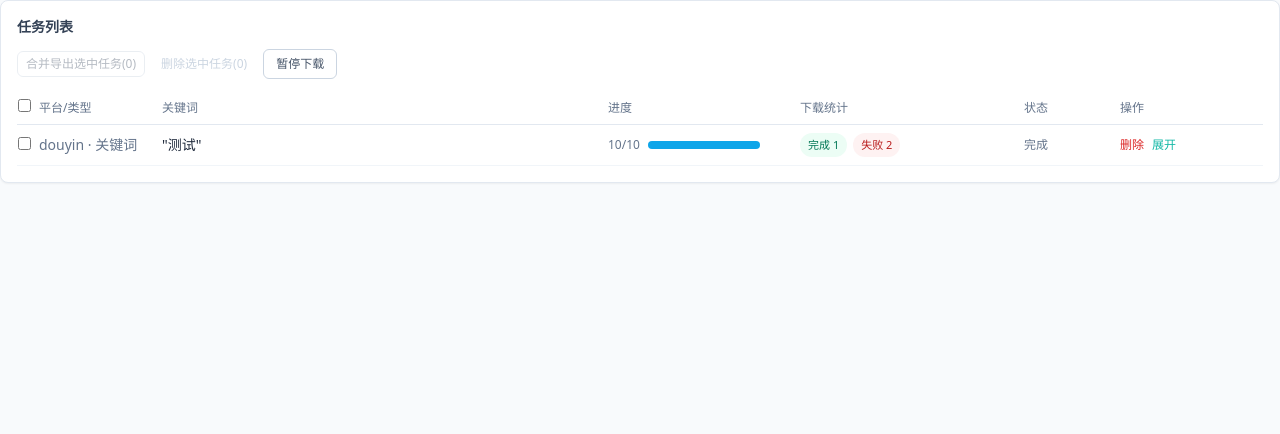
Test case: 只看失败 › 先过滤后搜索：只看失败 + 关键词，只显示失败的匹配行
Click the button "展开".
click(1164, 145)  # box 1152,137 -> 1176,153
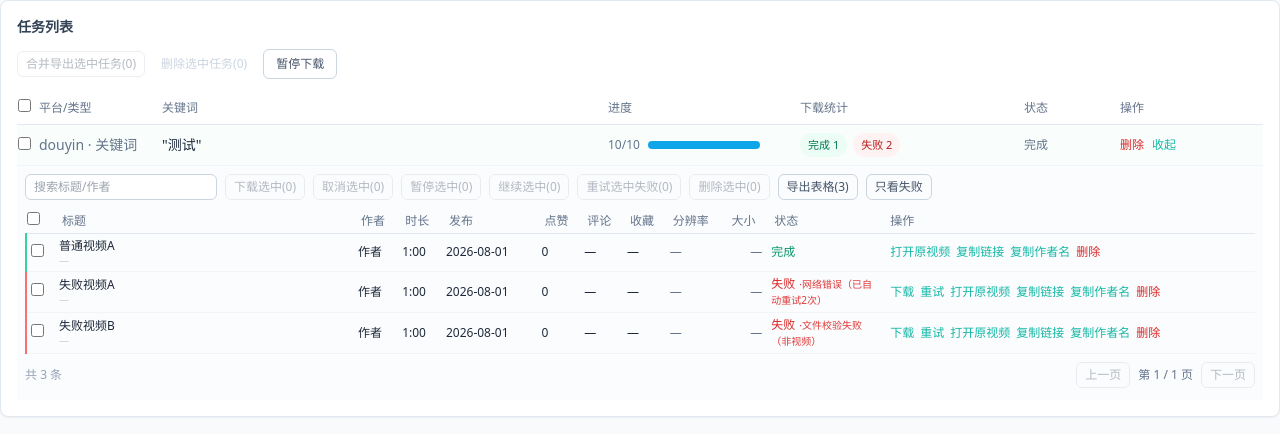
Expected: the text "普通视频A" is shown, 59,237 -> 115,254
Expected: the text "失败视频A" is shown, 59,276 -> 115,293
Expected: the text "失败视频B" is shown, 59,317 -> 115,334
Click the button "只看失败".
click(899, 187)  # box 866,174 -> 932,200
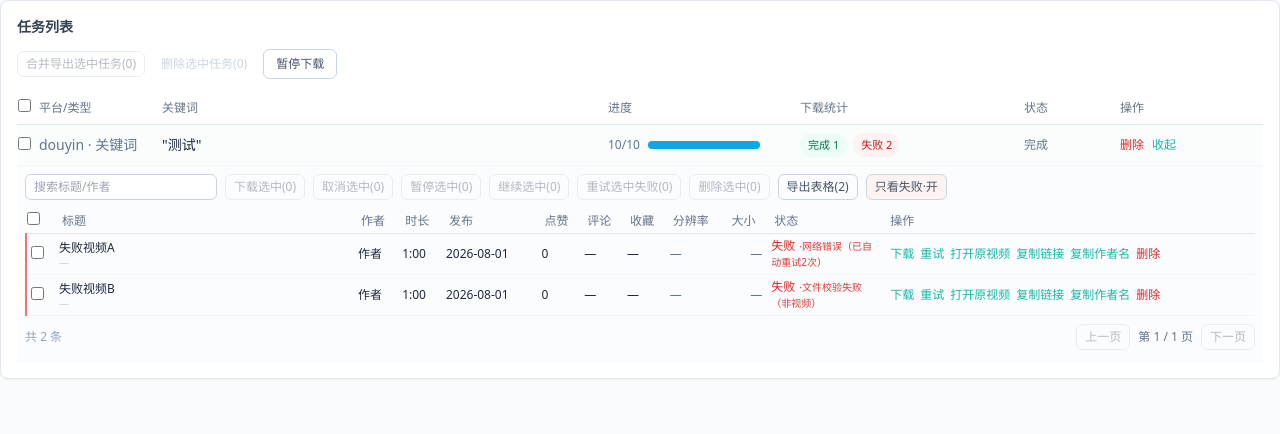
Expected: the text "失败视频A" is shown, 59,239 -> 115,256
Expected: the text "失败视频B" is shown, 59,280 -> 115,297
Expected: the text "普通视频A" is gone
Type "A" into the field with placeholder "搜索标题/作者".
click(121, 187); type("A")  # box 25,174 -> 217,200
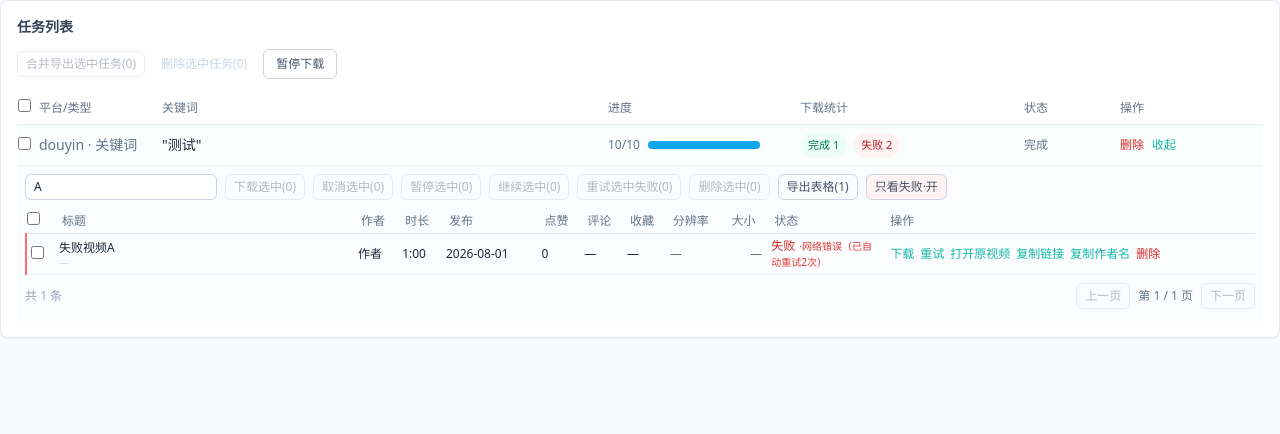
Expected: the text "普通视频A" is not shown
Expected: the text "失败视频A" is shown, 59,239 -> 115,256
Expected: the text "失败视频B" is gone
